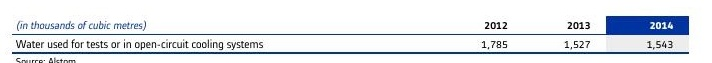table: (0, 0, 712, 63)
